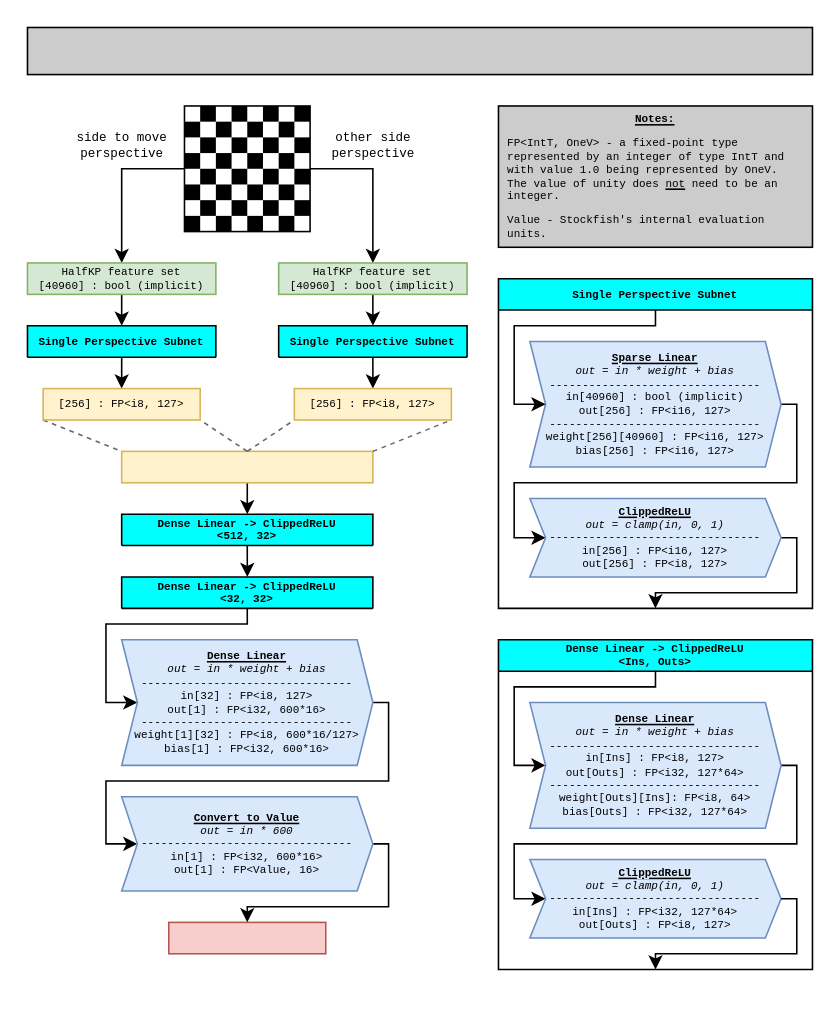
This 840x1010 diagram has some shape labels left out. Here are the shapes that lost their labels. From the top down, the centre of each, then its label:
At (x=419, y=50): "Stockfish SFNNv1 evaluation network diagram".
At (x=246, y=466): "[512] : FP<i8, 127>".
At (x=246, y=937): "[1] : FP<Value, 16>".
